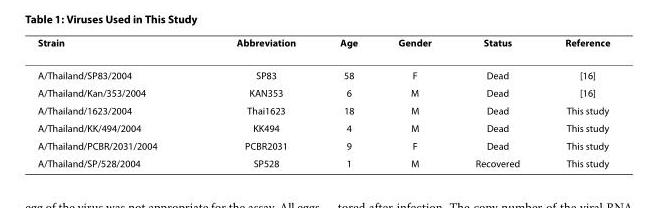table: (36, 36, 609, 168)
table column: (36, 36, 196, 168), (196, 36, 317, 168), (452, 36, 541, 168), (377, 36, 452, 168), (541, 36, 609, 168), (317, 36, 377, 168)
table column header: (36, 36, 609, 58)
table row: (36, 58, 609, 83), (36, 36, 609, 58), (36, 83, 609, 101), (36, 101, 609, 119), (36, 136, 609, 154), (36, 119, 609, 136), (36, 154, 609, 168)
